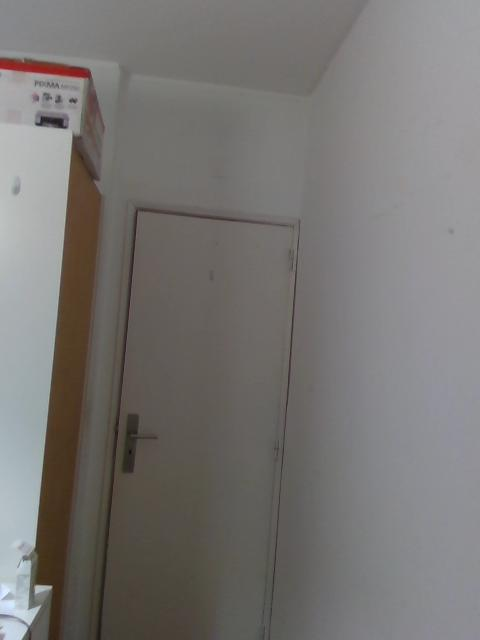door: (99, 208, 297, 640)
